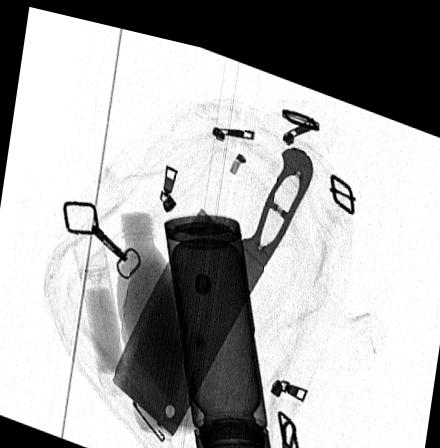Knife: (111, 130, 315, 430)
